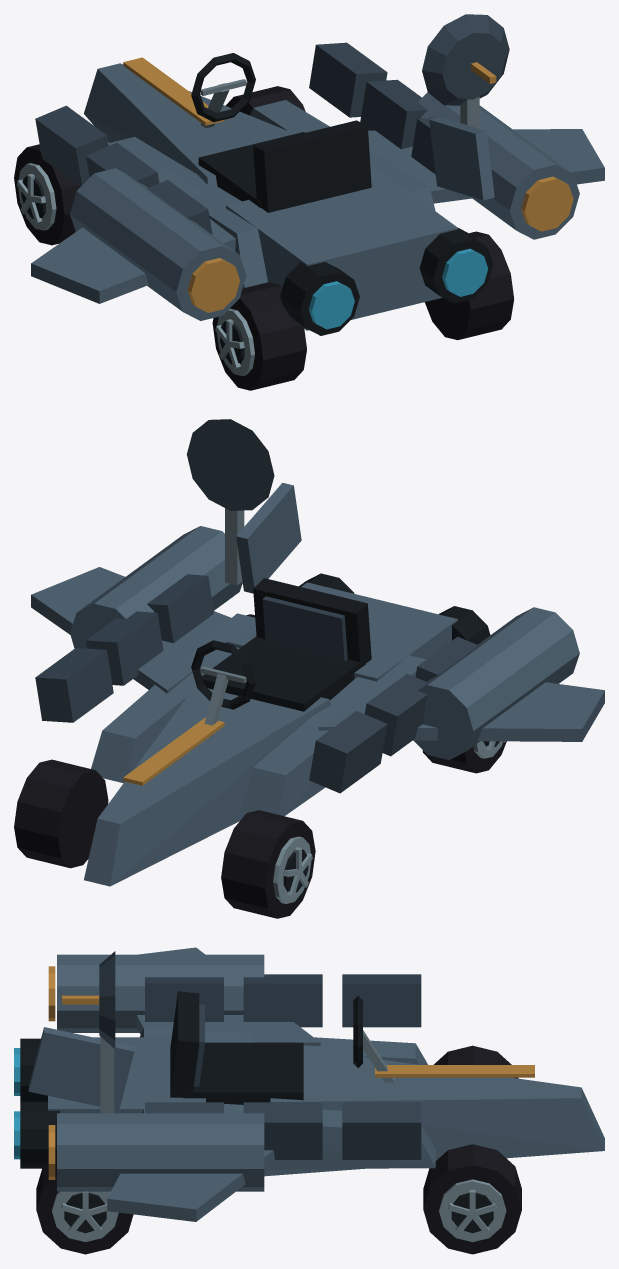
The model's file is kart.glb.
3 views of the same model, one above another, from view 1: azimuth 30°, elevation 25°; view 2: azimuth 150°, elevation 25°; view 3: azimuth 270°, elevation 25° (orthographic). The views are drawn at different scales.
Visible parts, largest first — view 1: identity-starfighter-starfighter-flight-planform, identity-starfighter-motif-engine-pods, identity-starfighter-motif-armor, identity-starfighter-driver-cockpit, wheel-rear-left, identity-starfighter-motif-radar, wheel-front-left, wheel-rear-right, wheel-front-right; view 2: identity-starfighter-starfighter-flight-planform, identity-starfighter-motif-engine-pods, identity-starfighter-motif-armor, identity-starfighter-driver-cockpit, wheel-front-left, wheel-front-right, identity-starfighter-motif-radar, wheel-rear-left; view 3: identity-starfighter-starfighter-flight-planform, identity-starfighter-motif-engine-pods, identity-starfighter-motif-armor, identity-starfighter-driver-cockpit, wheel-front-right, wheel-rear-right, identity-starfighter-motif-radar, wheel-front-left.
Part boxes in pixels (bbox=[...]): identity-starfighter-starfighter-flight-planform: bbox=[31, 57, 604, 335]; identity-starfighter-motif-engine-pods: bbox=[70, 92, 579, 320]; identity-starfighter-motif-armor: bbox=[35, 42, 436, 234]; identity-starfighter-driver-cockpit: bbox=[191, 53, 371, 212]; wheel-rear-left: bbox=[212, 282, 306, 390]; identity-starfighter-motif-radar: bbox=[422, 14, 509, 128]; wheel-front-left: bbox=[14, 144, 80, 245]; wheel-rear-right: bbox=[424, 231, 513, 340]; wheel-front-right: bbox=[225, 86, 305, 115]; identity-starfighter-starfighter-flight-planform: bbox=[31, 482, 604, 886]; identity-starfighter-motif-engine-pods: bbox=[70, 526, 579, 759]; identity-starfighter-motif-armor: bbox=[35, 574, 478, 793]; identity-starfighter-driver-cockpit: bbox=[191, 578, 371, 739]; wheel-front-left: bbox=[221, 810, 315, 918]; wheel-front-right: bbox=[14, 759, 108, 868]; identity-starfighter-motif-radar: bbox=[186, 419, 274, 585]; wheel-rear-left: bbox=[422, 741, 506, 773]; identity-starfighter-starfighter-flight-planform: bbox=[14, 947, 604, 1221]; identity-starfighter-motif-engine-pods: bbox=[48, 954, 264, 1191]; identity-starfighter-motif-armor: bbox=[145, 974, 421, 1159]; identity-starfighter-driver-cockpit: bbox=[170, 991, 395, 1104]; wheel-front-right: bbox=[423, 1144, 521, 1254]; wheel-rear-right: bbox=[36, 1159, 133, 1254]; identity-starfighter-motif-radar: bbox=[62, 951, 115, 1113]; wheel-front-left: bbox=[433, 1045, 518, 1078].
Bounding box in the file's own units: 3.14 × 1.65 × 2.99.
